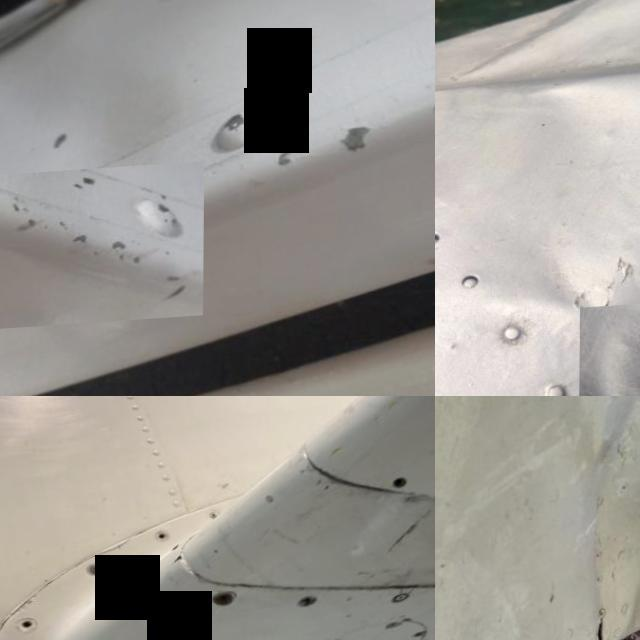Crack: (0, 165, 204, 331), (273, 59, 435, 182), (584, 611, 625, 640), (210, 117, 252, 142), (94, 540, 140, 558), (12, 588, 42, 614), (172, 558, 188, 572)
Dent: (435, 0, 640, 140), (494, 232, 626, 334), (580, 304, 640, 396)
Missing_Fastener: (435, 214, 452, 264), (210, 596, 237, 612), (19, 618, 40, 636), (394, 481, 408, 498), (156, 535, 170, 546)
